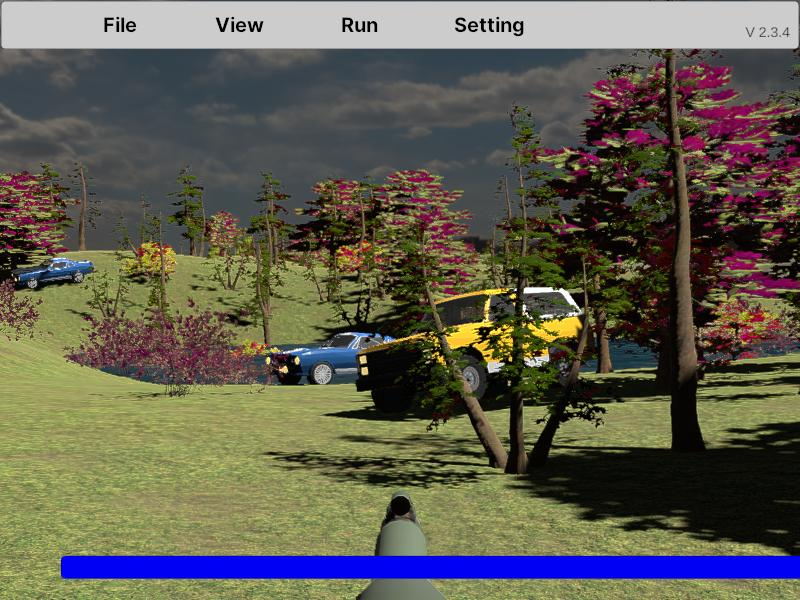car: (356, 285, 587, 411), (269, 330, 404, 387), (13, 256, 94, 291)
